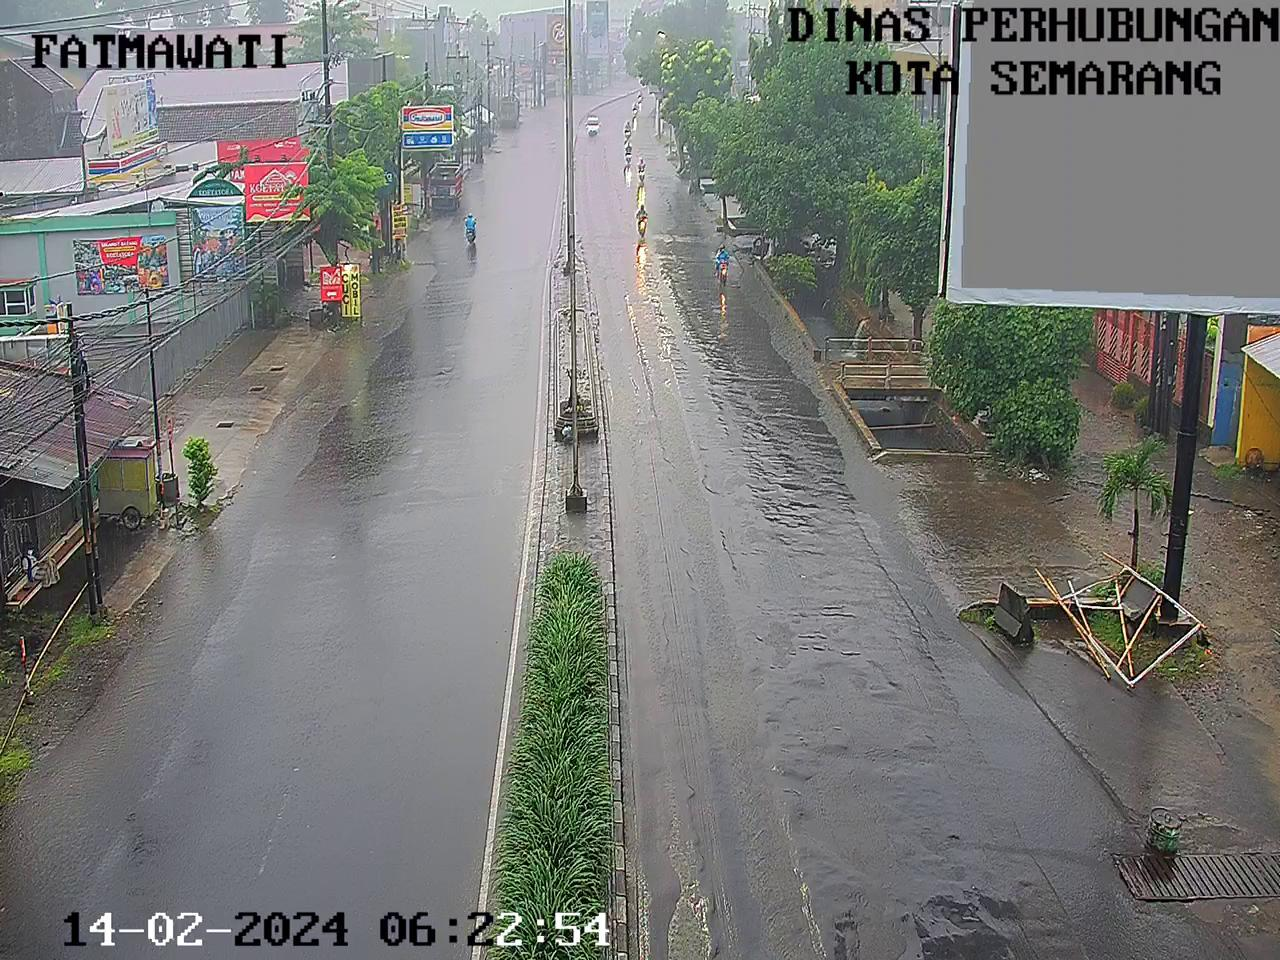car: (586, 110, 601, 139)
motorcycle: (714, 243, 734, 288), (636, 201, 649, 237), (621, 142, 636, 170), (622, 118, 632, 144), (638, 156, 646, 186), (636, 89, 646, 107), (629, 102, 637, 117)
